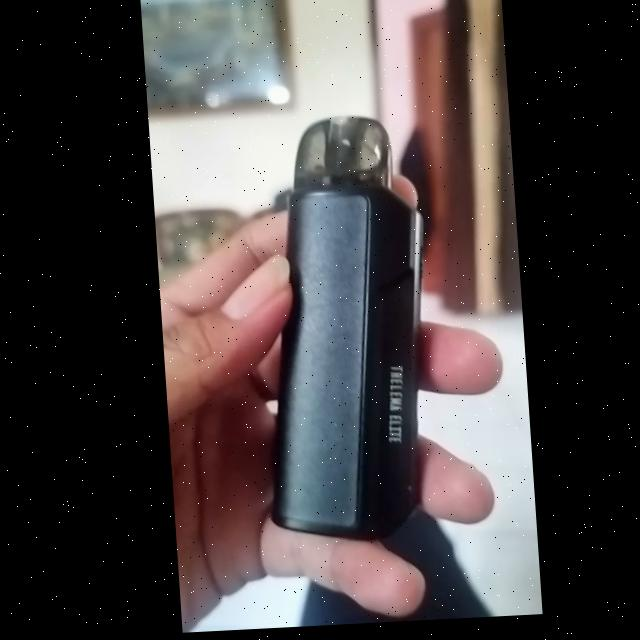vape: (240, 113, 438, 550)
